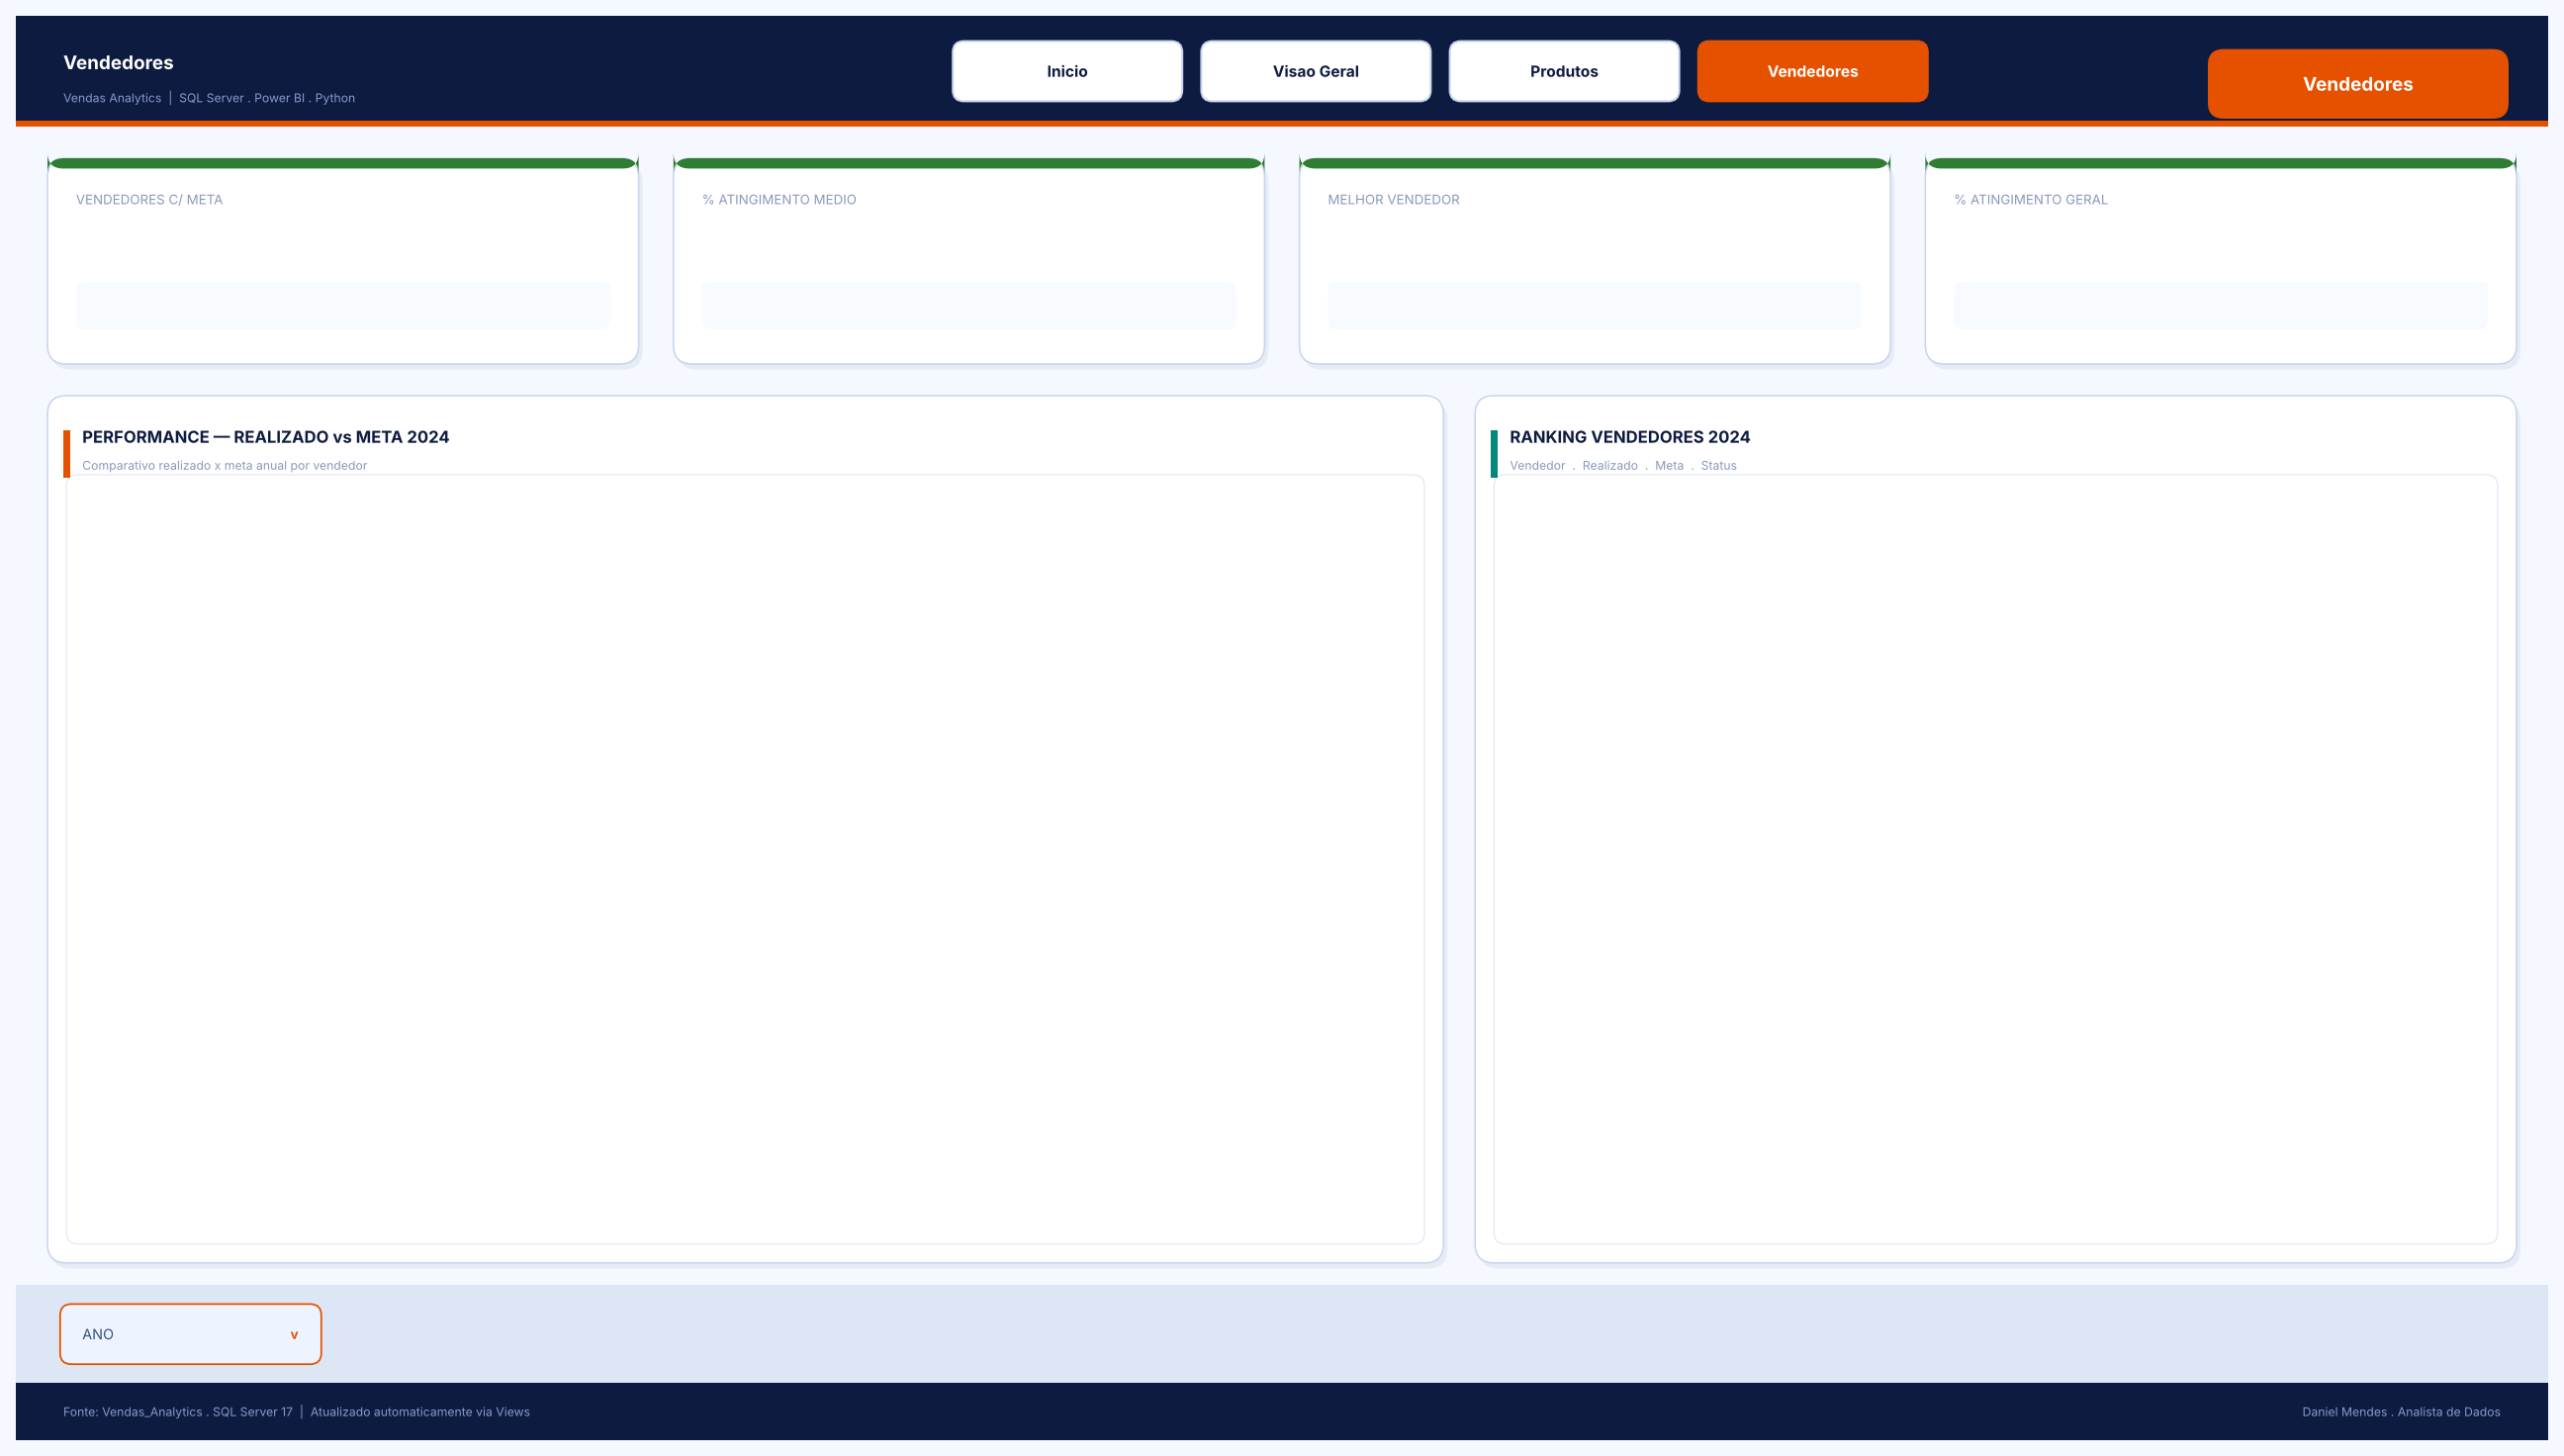

This screenshot's page, from the dashboard's own definition file:
{"tool":"powerbi","page":{"name":"Vendedores","canvas":[1920,1080],"ordinal":3},"visuals":[{"type":"actionButton","box":[714.9,22,169.4,41.8],"z":0},{"type":"actionButton","box":[899.7,22,169.4,41.8],"z":1000},{"type":"actionButton","box":[1084.5,22,169.4,41.8],"z":2000},{"type":"cardVisual","fields":{"Data":["_Medidas.Vendedores Meta Atingida"]},"box":[47.1,175.6,413.2,83.5],"z":3000},{"type":"cardVisual","fields":{"Data":["_Medidas.% Atingimento Médio"]},"box":[507.4,175.6,413.2,83.5],"z":4000},{"type":"cardVisual","fields":{"Data":["_Medidas.Melhor Vendedor"]},"box":[978.4,177.7,413.2,83.5],"z":5000},{"type":"cardVisual","fields":{"Data":["_Medidas.% Atingimento Geral"]},"box":[1447.3,177.7,413.2,83.5],"z":6000},{"type":"clusteredBarChart","fields":{"Category":["vw_performance_vendedores.nome"],"Y":["_Medidas.Realizado Total 2024","_Medidas.Meta Total 2024"]},"box":[46.2,358.6,1022.9,561],"z":7000},{"type":"tableEx","fields":{"Values":["vw_performance_vendedores.nome","vw_performance_vendedores.receita_realizada","vw_performance_vendedores.meta_anual","vw_performance_vendedores.atingimento_meta_pct","vw_performance_vendedores.status_meta"]},"box":[1185.7,358.6,613.8,561],"z":8000},{"type":"slicer","fields":{"Values":["vw_performance_vendedores.ano"]},"box":[85.8,967.9,167.2,44],"z":9000}]}

Visuals, with their boxes in screenshot pixels (x1, y1, x2, y2), scaled from the page's 1920x1080 canvas onto the 2564x1456 screenshot:
actionButton: locate(955, 30, 1181, 86)
actionButton: locate(1202, 30, 1427, 86)
actionButton: locate(1448, 30, 1675, 86)
cardVisual - _Medidas.Vendedores Meta Atingida: locate(63, 236, 614, 349)
cardVisual - _Medidas.% Atingimento Médio: locate(678, 236, 1230, 349)
cardVisual - _Medidas.Melhor Vendedor: locate(1307, 239, 1859, 352)
cardVisual - _Medidas.% Atingimento Geral: locate(1933, 239, 2485, 352)
clusteredBarChart - vw_performance_vendedores.nome x _Medidas.Realizado Total 2024: locate(61, 484, 1427, 1239)
tableEx - vw_performance_vendedores.nome x vw_performance_vendedores.receita_realizada: locate(1584, 484, 2403, 1239)
slicer - vw_performance_vendedores.ano: locate(115, 1305, 338, 1364)
